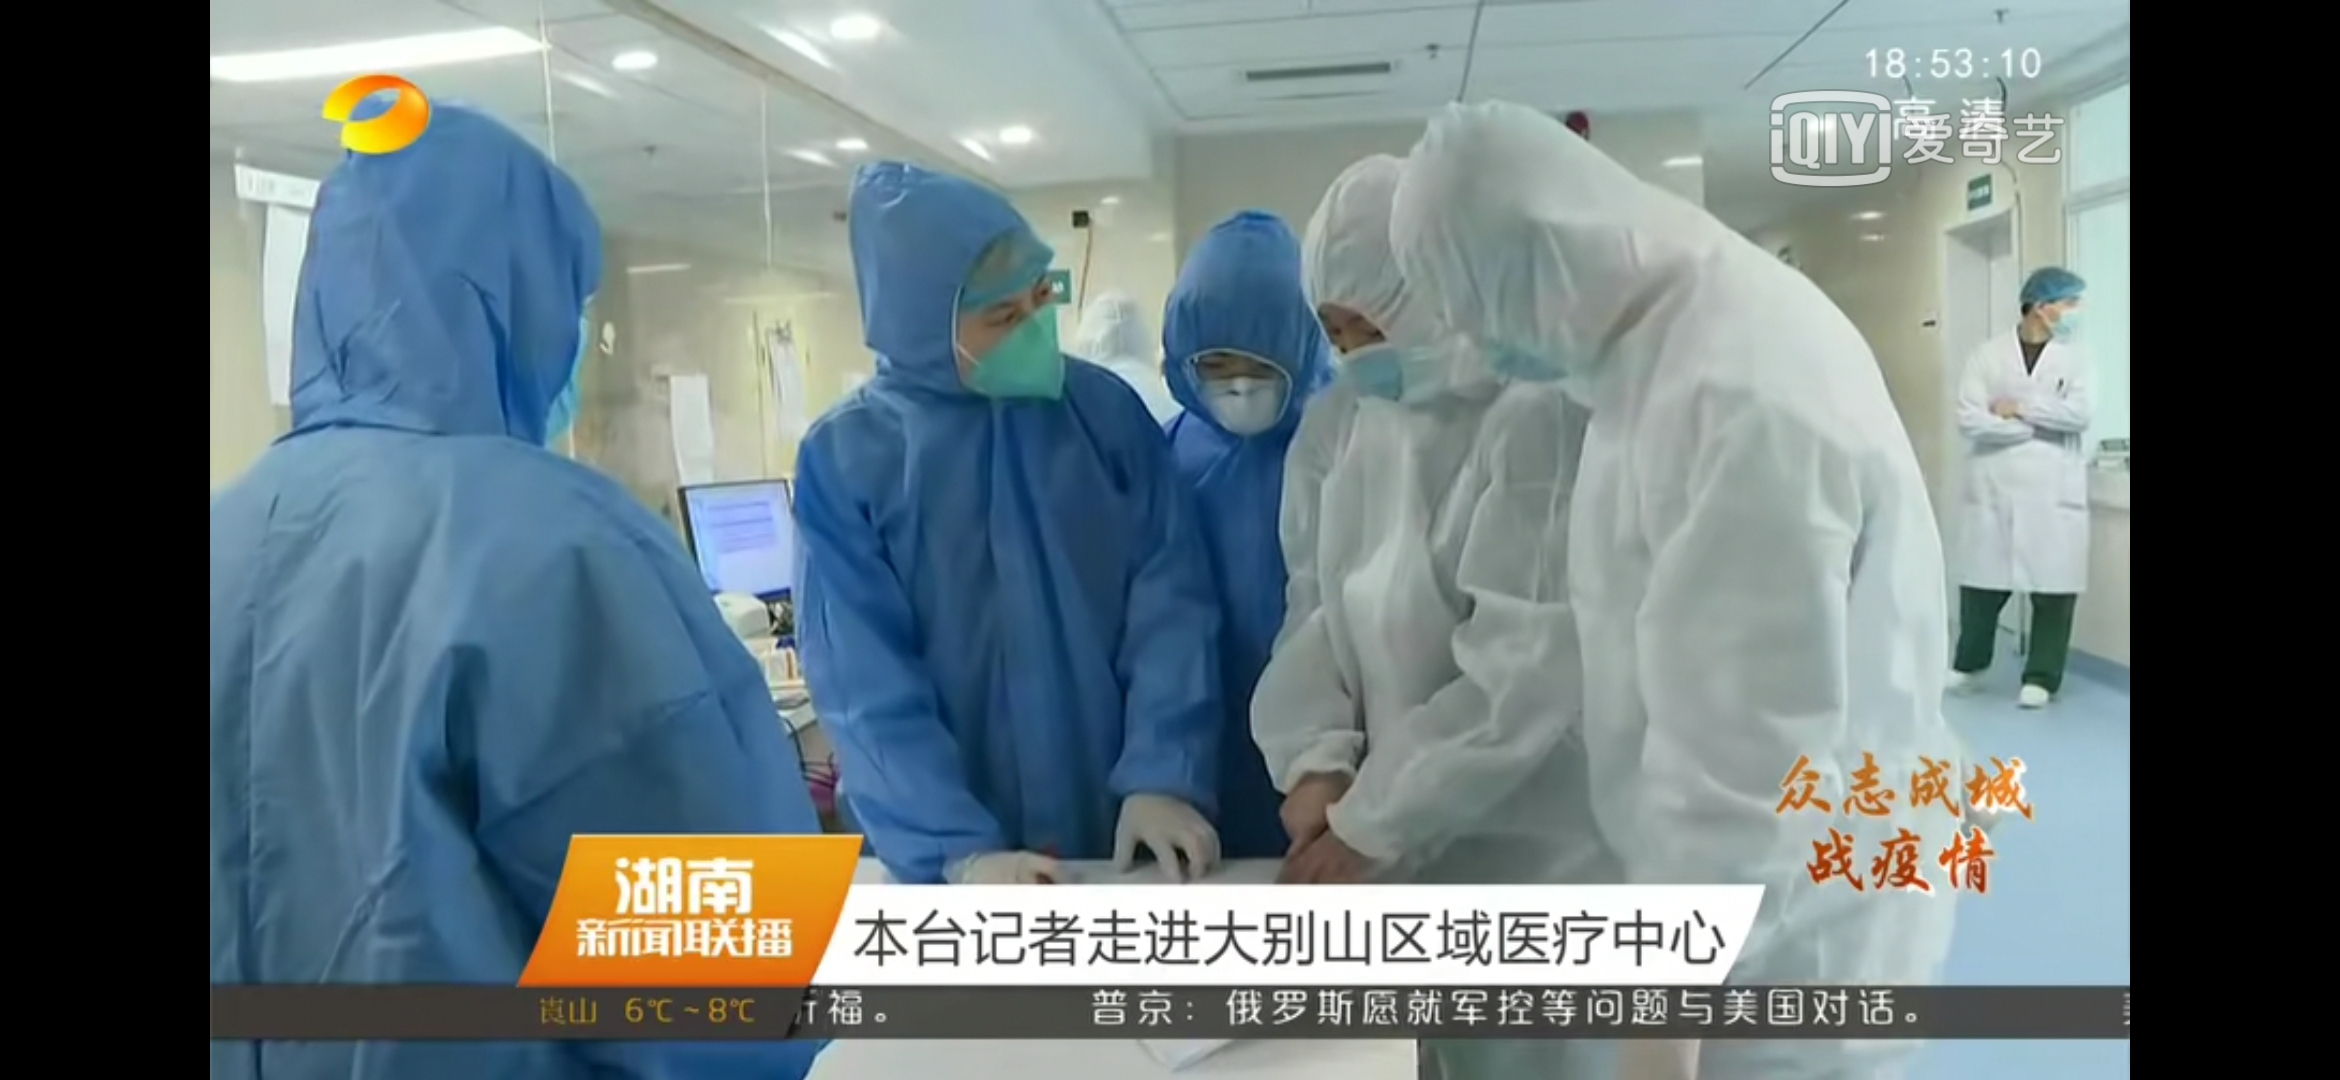correctlyWear: (487, 228, 612, 446), (1430, 230, 1570, 379), (945, 254, 1088, 395), (1304, 266, 1412, 413), (1177, 313, 1294, 440), (2030, 280, 2091, 343)
